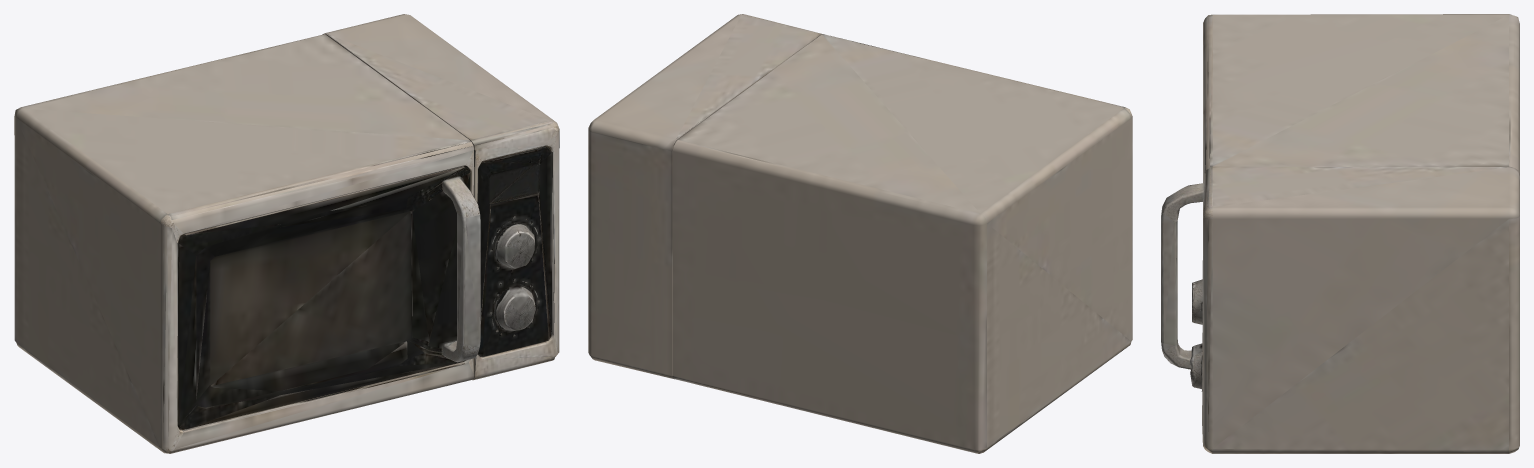
The model's file is p7-microwave-oven-t25.glb.
The picture shows the model from 3 angles, left to right: view 1: azimuth 30°, elevation 25°; view 2: azimuth 150°, elevation 25°; view 3: azimuth 270°, elevation 25°; orthographic projection. The views are drawn at different scales.
Visible parts, largest first — view 1: p7-microwave-oven-t25; view 2: p7-microwave-oven-t25; view 3: p7-microwave-oven-t25.
Boxes of the visible parts, <box> form: p7-microwave-oven-t25: <box>14,14,559,453</box>; p7-microwave-oven-t25: <box>588,14,1132,453</box>; p7-microwave-oven-t25: <box>1161,14,1519,453</box>.
Bounding box in the file's own units: 0.5 × 0.3 × 0.38.
Materials: 1 (1 with a texture image).
